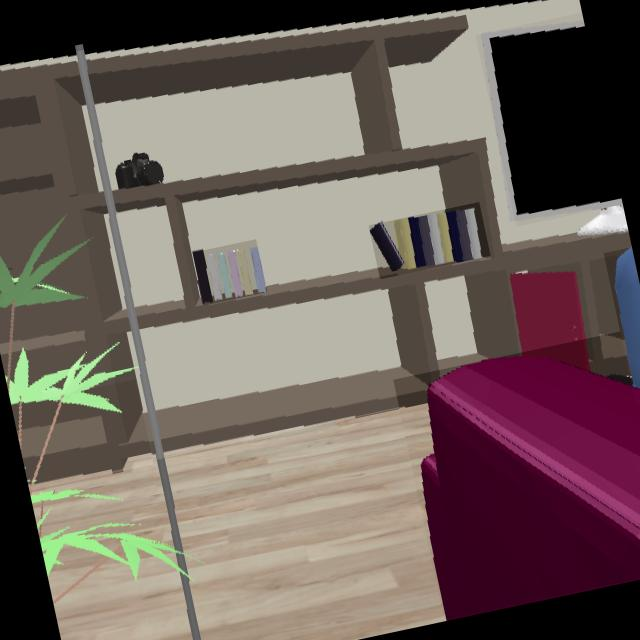book: (371, 207, 489, 272), (193, 246, 266, 304)
bookshelf: (0, 17, 632, 447), (13, 383, 150, 485)
monitor: (483, 23, 622, 217)
person: (615, 248, 640, 392)
sofa: (420, 357, 640, 620)
